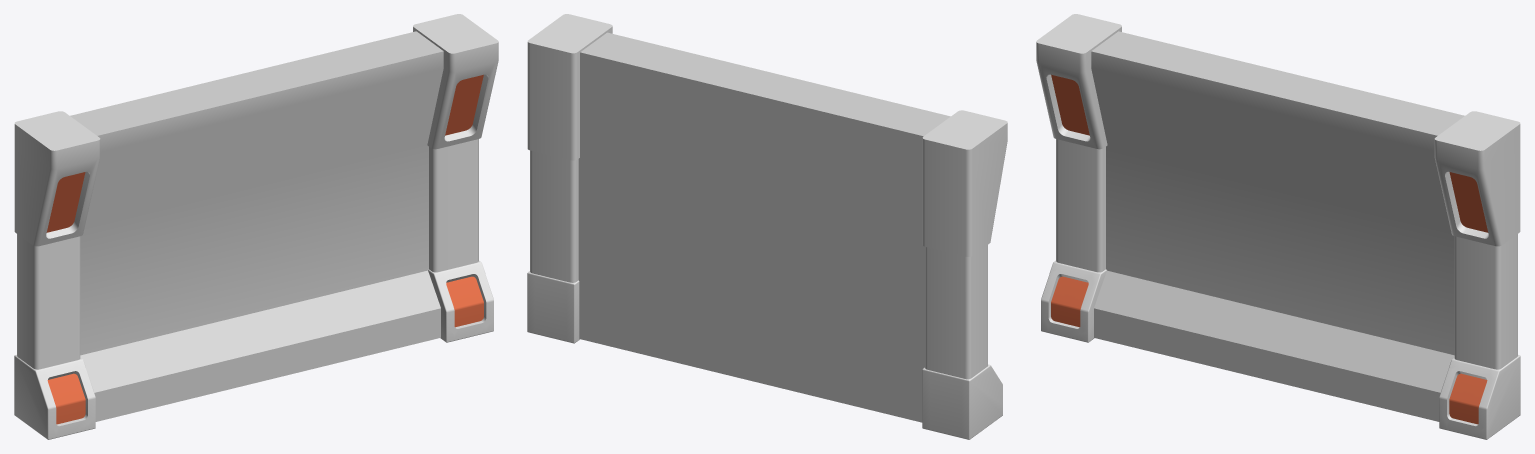
Rendered from wall1.glb.
3 views of the same model, side by side, from view 1: azimuth 30°, elevation 25°; view 2: azimuth 150°, elevation 25°; view 3: azimuth 330°, elevation 25° (orthographic).
Parts seen in each view (by area): view 1: Cube.005, Cube; view 2: Cube.005, Cube; view 3: Cube.005, Cube.
Part boxes in pixels (box(x1,y1,x2,y2)): Cube.005: box(70, 31, 443, 421); Cube: box(14, 14, 498, 439); Cube.005: box(578, 32, 950, 422); Cube: box(527, 14, 1007, 439); Cube.005: box(1091, 31, 1464, 421); Cube: box(1036, 14, 1520, 439).
Bounding box in the file's own units: 16.51 × 10.32 × 2.54.
